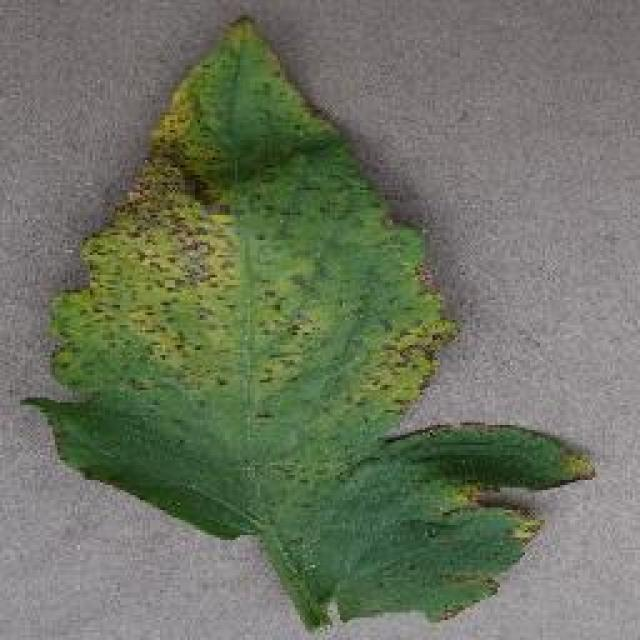Tomato bacterial spot leaf: (16, 8, 604, 640)
